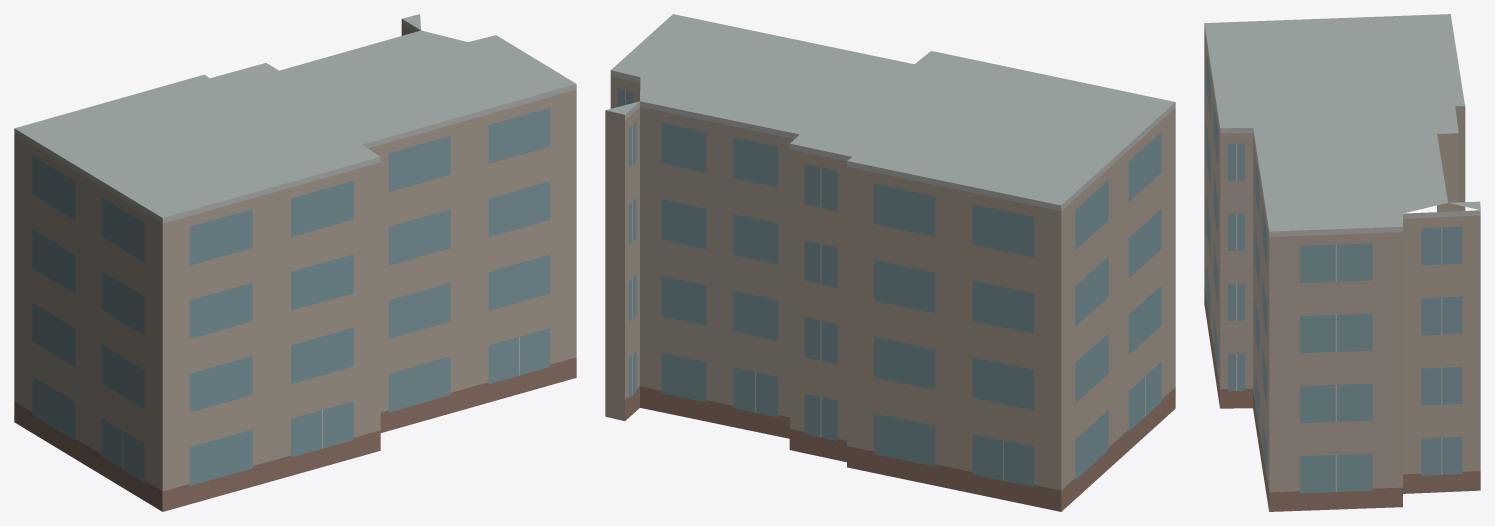
File: survey-upis-33007455.glb
The picture shows the model from 3 angles, left to right: view 1: azimuth 30°, elevation 25°; view 2: azimuth 150°, elevation 25°; view 3: azimuth 270°, elevation 25°; orthographic projection. The views are drawn at different scales.
Visible parts, largest first — view 1: survey-upis-33007455.tmp; view 2: survey-upis-33007455.tmp; view 3: survey-upis-33007455.tmp.
Part boxes in pixels (x1=…): survey-upis-33007455.tmp: x1=14, y1=14, x2=576, y2=511; survey-upis-33007455.tmp: x1=605, y1=14, x2=1175, y2=511; survey-upis-33007455.tmp: x1=1204, y1=14, x2=1480, y2=511.
Bounding box in the file's own units: 21.48 × 12.9 × 11.53.
